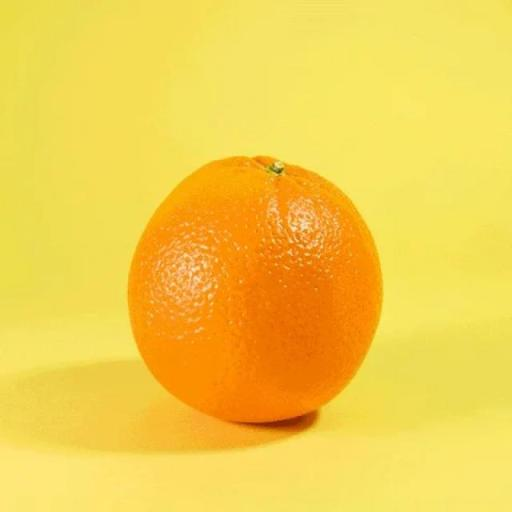fruit: (128, 156, 381, 421)
